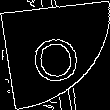O_N: (28, 27, 82, 83)
